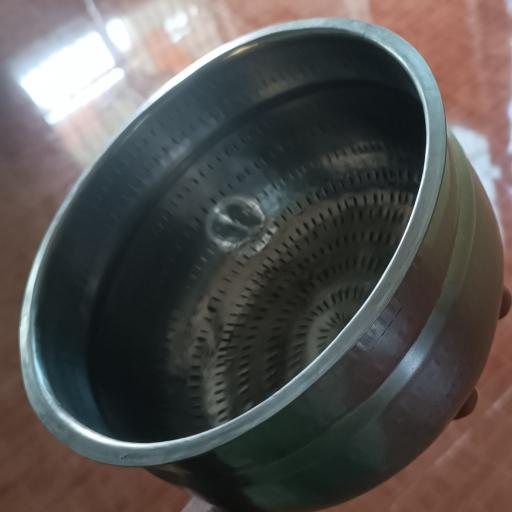vessel: (20, 19, 503, 512)
